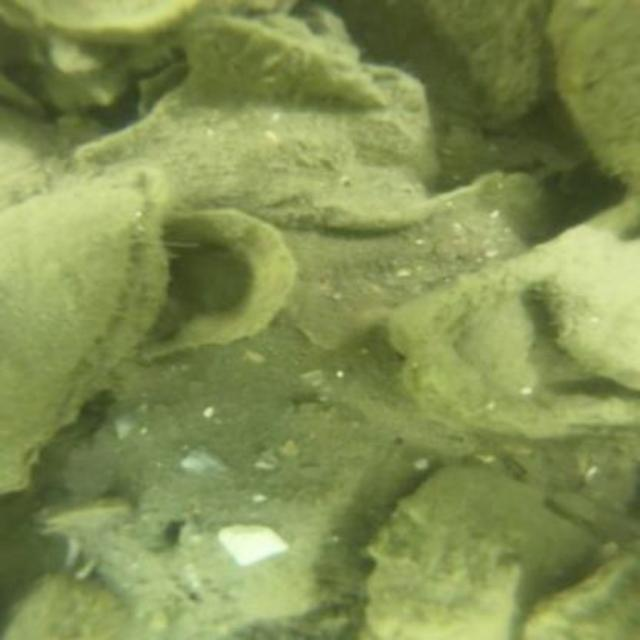Oyster-Closed: (62, 393, 384, 630), (384, 188, 638, 442), (69, 72, 433, 230), (1, 173, 172, 485), (288, 170, 554, 344), (367, 465, 588, 633), (123, 203, 301, 364), (342, 2, 540, 132), (179, 18, 389, 106), (556, 0, 636, 181), (546, 230, 630, 387), (523, 544, 637, 638)
